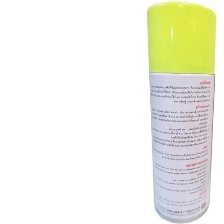aerosol_cans: (143, 0, 219, 224)
